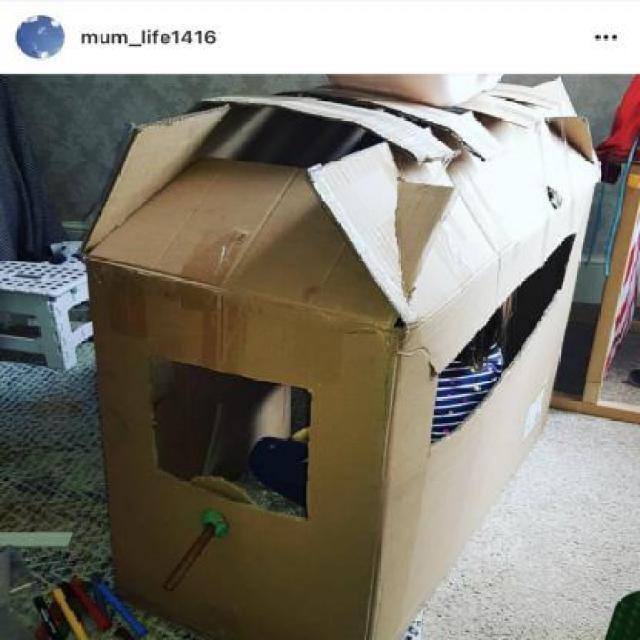box: (90, 106, 596, 640)
